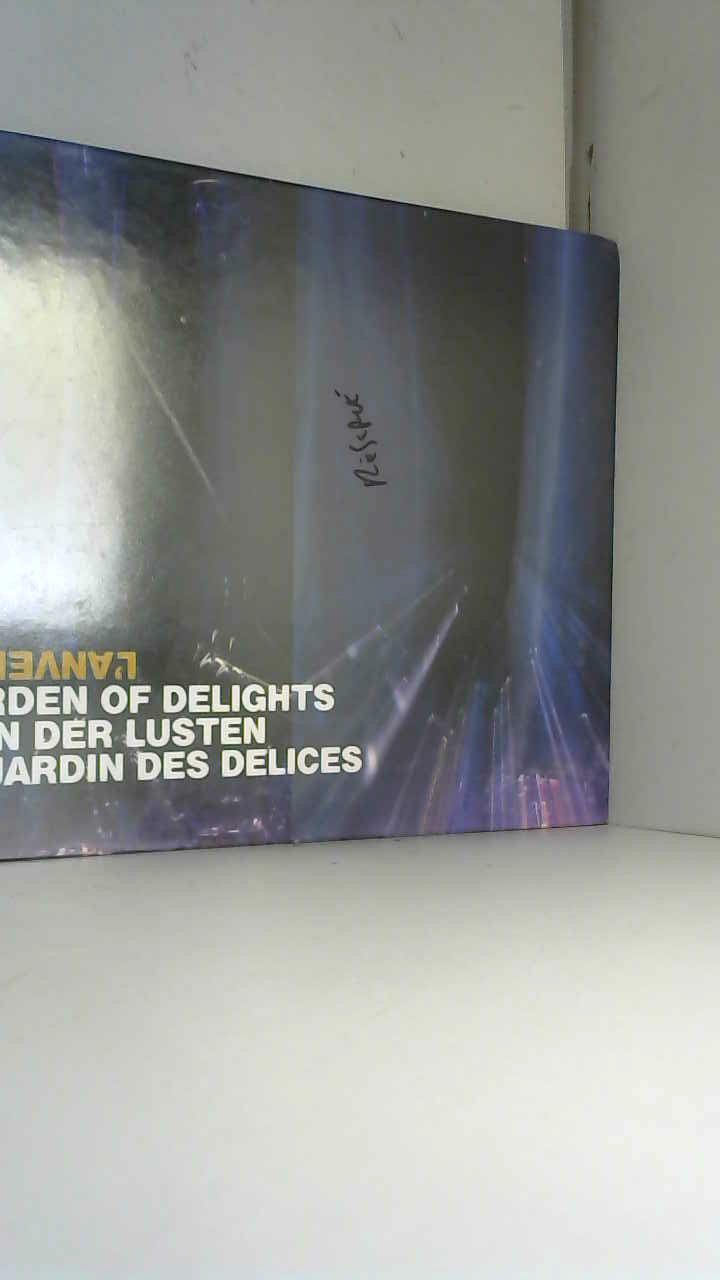book: (0, 121, 646, 872)
